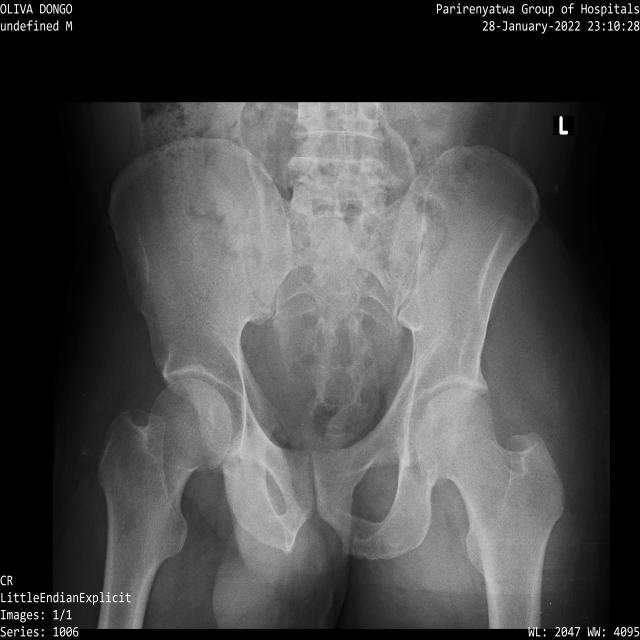normal-left: (416, 388, 565, 628)
normal-right: (97, 380, 232, 629)
